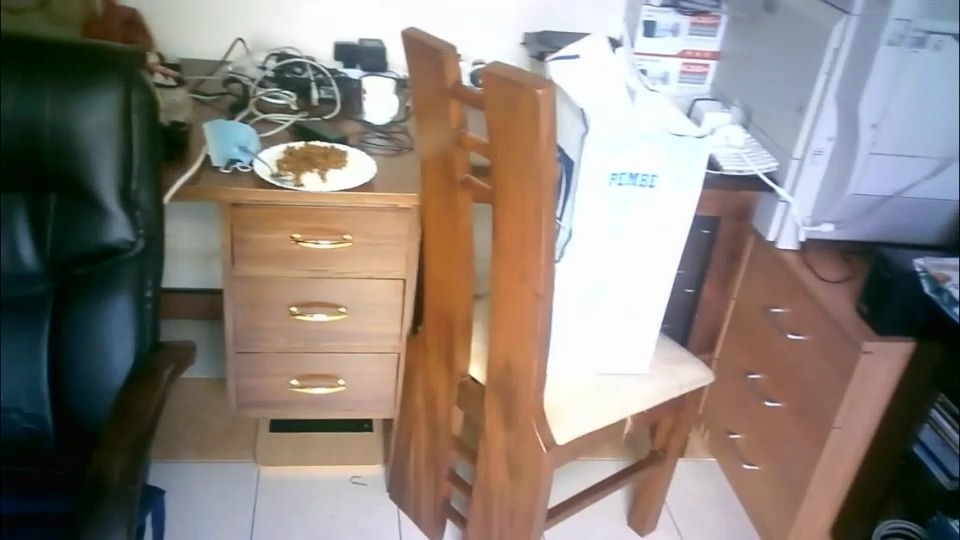wheat_flour_blue_label: (554, 52, 714, 374)
